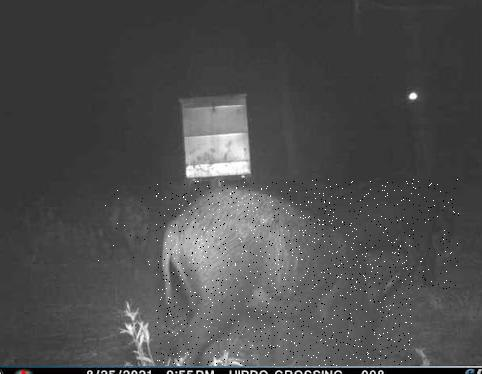Hog: (155, 181, 412, 366), (310, 179, 459, 290), (96, 185, 157, 271)
